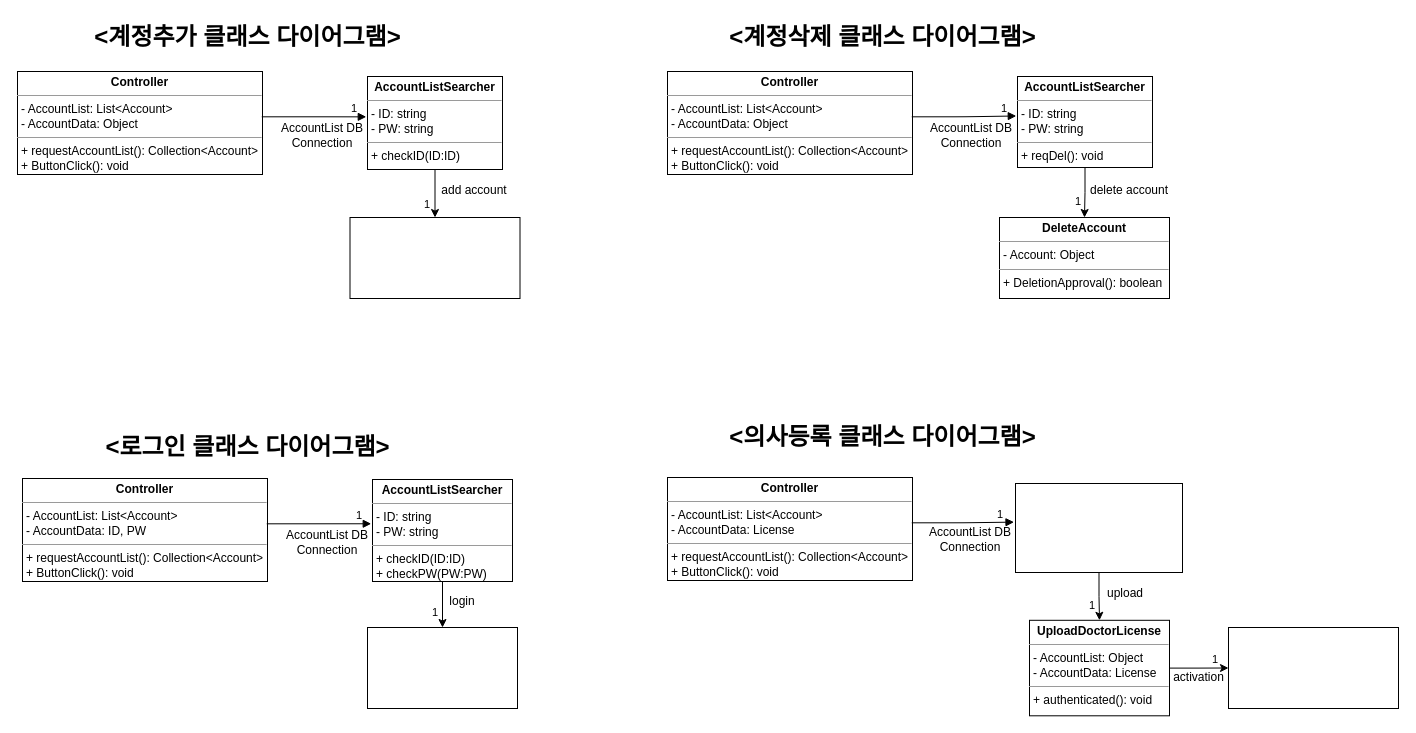
The diagram is 1416 pixels wide and 733 high, and some of its shapes have lost their labels. The shapes that lost their labels are listed below. From the top down, each one's box as (x1, y1, x2, y2) in pixels, then its label:
(349, 216, 520, 298): AddAccount - Account: Object + AdditionApproval(): boolean
(1014, 482, 1182, 572): DoctorAccountListSearcher - ID: string - PW: string + checkLicense(): boolean
(366, 626, 518, 708): LoginToAccount - Account: Object + LoginApproval(): boolean
(1228, 626, 1398, 708): ActivateDoctor + LicenseApproval(): boolean
